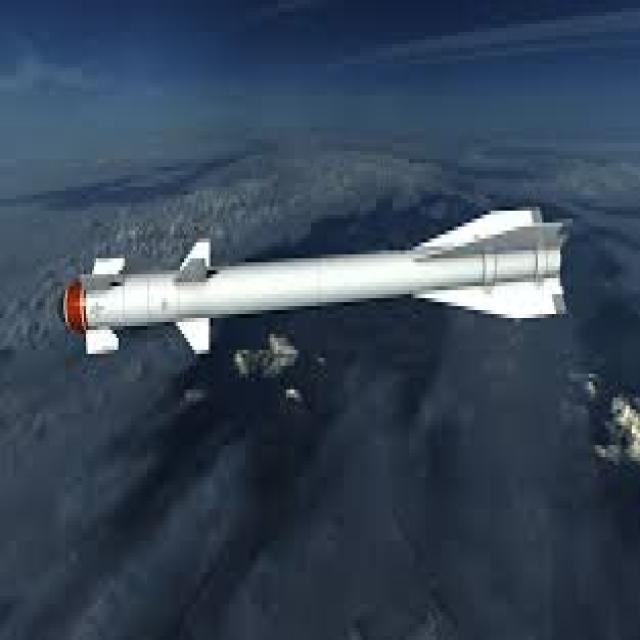missile: (62, 202, 577, 352)
